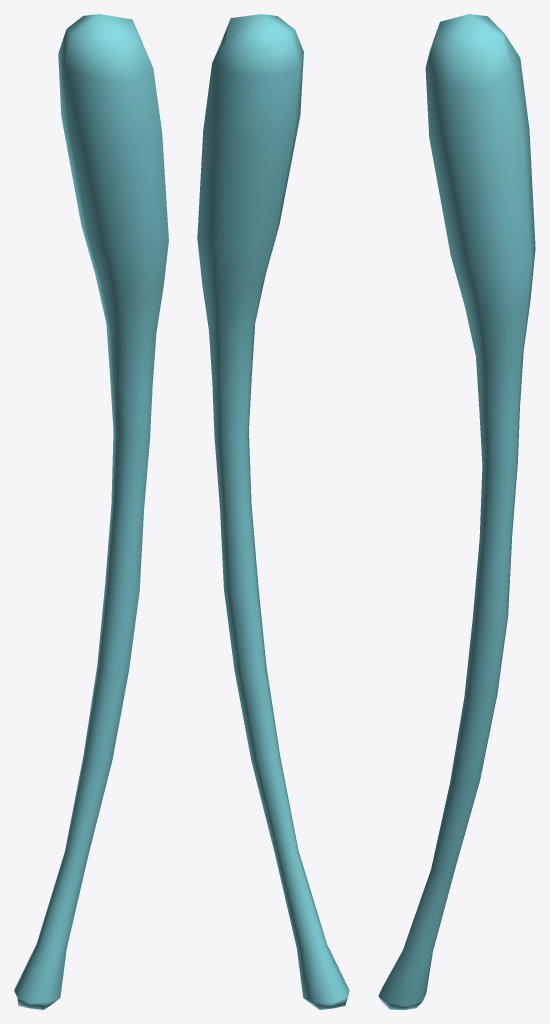
The model's file is SM_Void_Plant_001.fbx.
3 views of the same model, side by side, from view 1: azimuth 30°, elevation 25°; view 2: azimuth 150°, elevation 25°; view 3: azimuth 330°, elevation 25° (orthographic). The views are drawn at different scales.
Visible parts, largest first — view 1: SM_Void_Plant_001; view 2: SM_Void_Plant_001; view 3: SM_Void_Plant_001.
Boxes of the visible parts, x1,y1,x2,y2 form: SM_Void_Plant_001: (14, 14, 168, 1009); SM_Void_Plant_001: (197, 14, 349, 1009); SM_Void_Plant_001: (378, 14, 535, 1009).
Bounding box in the file's own units: 10.75 × 69.57 × 6.21.
